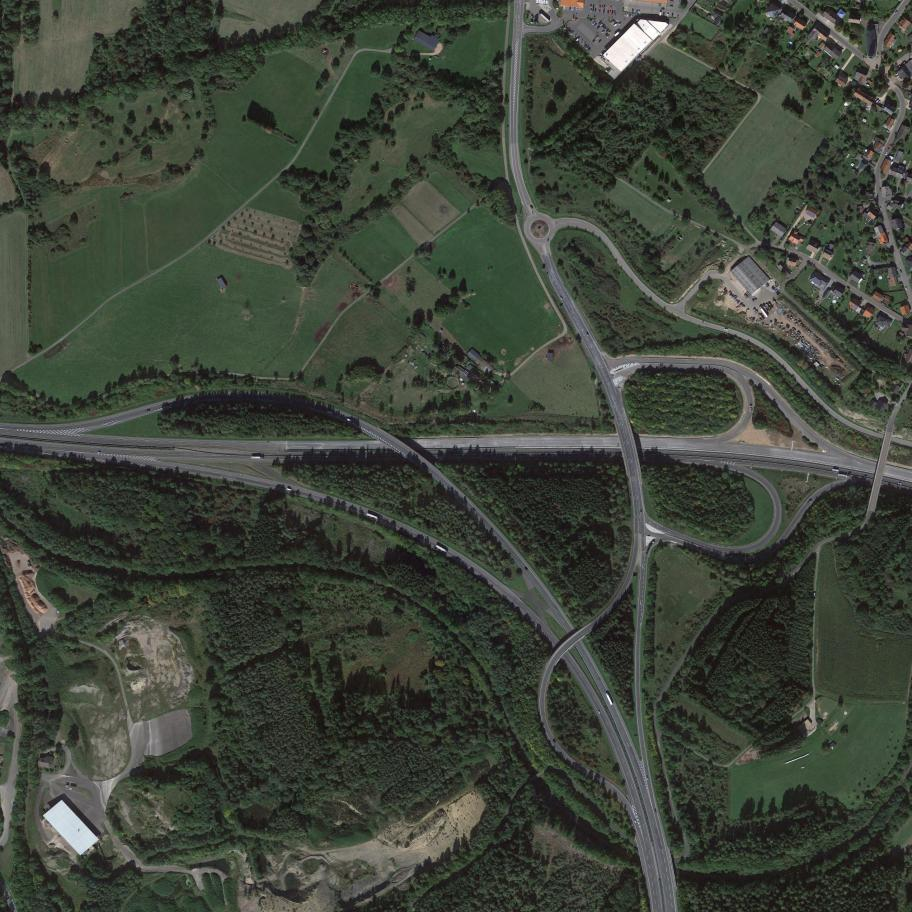large-vehicle: (759, 306, 769, 318), (538, 12, 550, 22), (605, 692, 614, 705), (435, 545, 448, 553), (366, 513, 380, 520), (837, 474, 850, 478), (614, 31, 621, 37), (251, 457, 264, 459), (575, 37, 580, 42), (832, 469, 840, 472), (614, 22, 618, 27), (659, 12, 662, 17)
small-vehicle: (286, 488, 293, 492), (807, 500, 812, 505), (570, 31, 574, 36), (894, 10, 898, 15), (835, 377, 840, 381), (524, 566, 528, 571), (565, 27, 569, 31), (598, 39, 602, 43), (592, 39, 596, 43), (587, 47, 591, 51), (584, 44, 588, 48), (592, 22, 596, 26), (589, 18, 593, 22), (598, 21, 602, 25), (604, 27, 608, 31), (606, 28, 610, 32), (837, 382, 841, 386), (774, 289, 778, 293), (777, 292, 781, 296), (772, 287, 776, 291), (771, 285, 775, 289), (895, 75, 899, 79), (530, 205, 534, 209), (597, 777, 601, 781), (603, 5, 606, 10), (611, 10, 614, 15), (723, 328, 728, 331), (894, 131, 897, 136), (865, 84, 870, 87), (146, 409, 151, 412), (813, 592, 816, 597), (605, 33, 609, 36), (602, 30, 605, 34), (586, 46, 589, 50), (594, 22, 597, 26), (575, 17, 578, 21), (567, 29, 570, 33), (608, 30, 611, 34), (569, 29, 572, 33), (600, 23, 603, 27), (602, 24, 605, 28), (603, 25, 606, 29), (618, 22, 621, 26), (841, 375, 844, 379), (776, 290, 779, 294), (905, 287, 908, 291), (879, 206, 882, 210), (885, 152, 888, 156), (882, 145, 885, 149), (889, 144, 892, 148), (886, 130, 890, 133), (560, 296, 563, 300), (586, 332, 589, 336), (640, 510, 643, 514), (553, 739, 556, 743), (634, 820, 637, 824), (900, 269, 902, 274), (597, 26, 600, 29), (607, 35, 610, 38), (598, 711, 601, 714), (601, 6, 603, 10), (571, 7, 573, 11), (576, 7, 578, 11), (592, 8, 594, 12), (595, 8, 597, 12), (599, 9, 601, 13), (603, 9, 605, 13), (638, 10, 640, 14), (610, 6, 612, 10), (607, 10, 609, 14), (614, 11, 616, 15), (627, 13, 629, 17), (629, 13, 631, 17), (632, 9, 634, 13), (636, 10, 638, 14), (888, 232, 890, 236), (880, 188, 882, 192), (888, 147, 890, 151), (669, 6, 673, 8), (898, 483, 902, 485), (646, 776, 648, 780), (655, 809, 657, 813), (725, 557, 729, 559), (569, 6, 571, 10), (593, 5, 595, 8), (624, 13, 626, 16), (631, 14, 633, 17), (834, 379, 836, 382), (667, 14, 669, 17), (547, 239, 549, 242), (574, 7, 575, 11), (610, 10, 611, 14), (661, 8, 665, 9), (672, 14, 673, 18), (98, 452, 102, 453), (591, 5, 592, 8), (591, 9, 592, 12), (600, 6, 601, 9)
